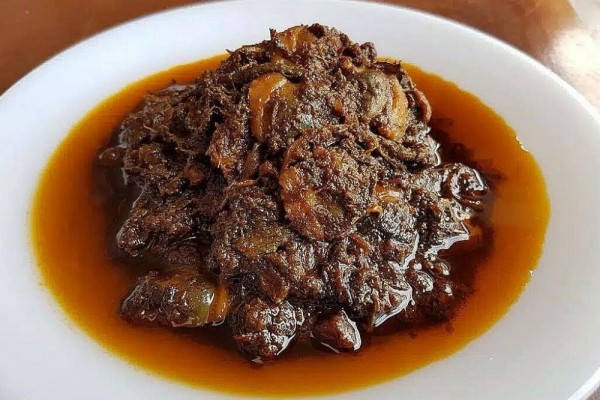rendang: (92, 21, 520, 364)
